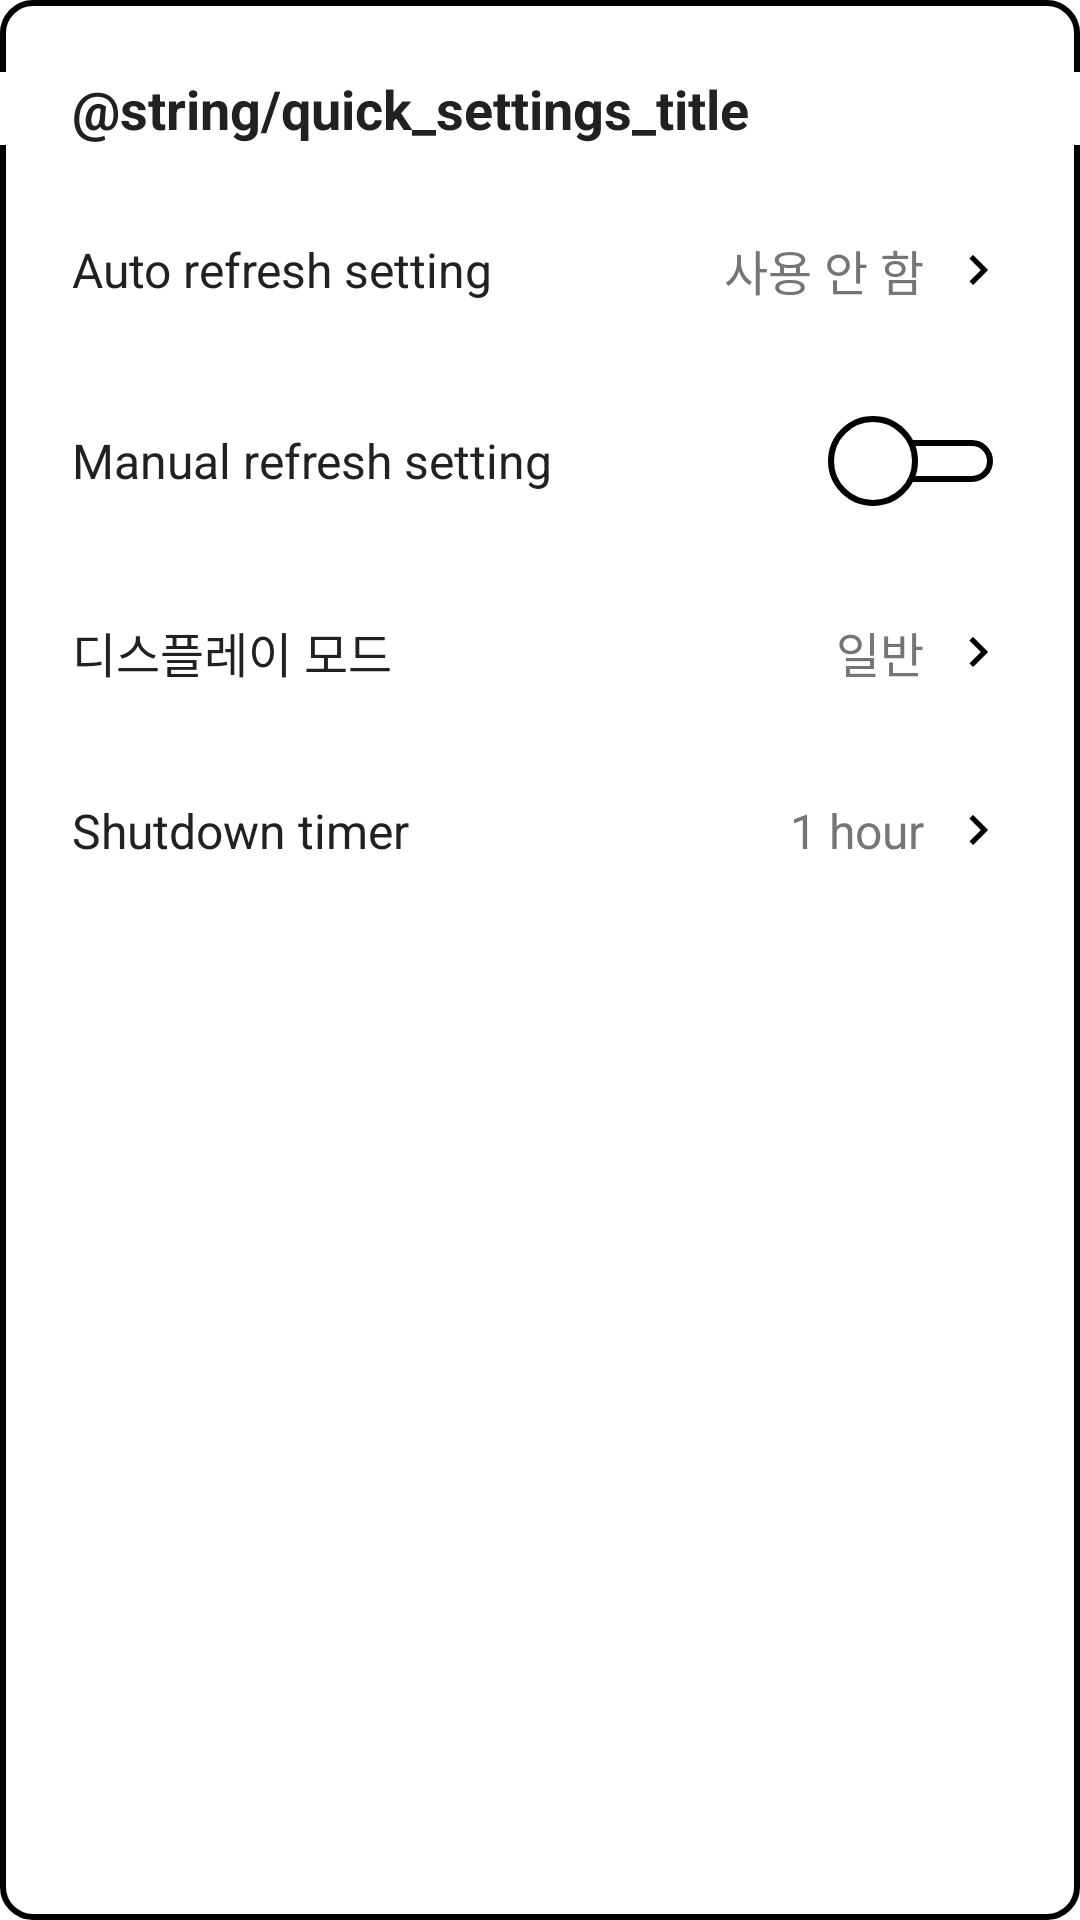

Icon bounding boxes for this 1080x1920 phone screenshot, format (x1, y1, x2, y2):
arrow right: (969, 255, 988, 285), (969, 637, 988, 667), (969, 815, 988, 845)
